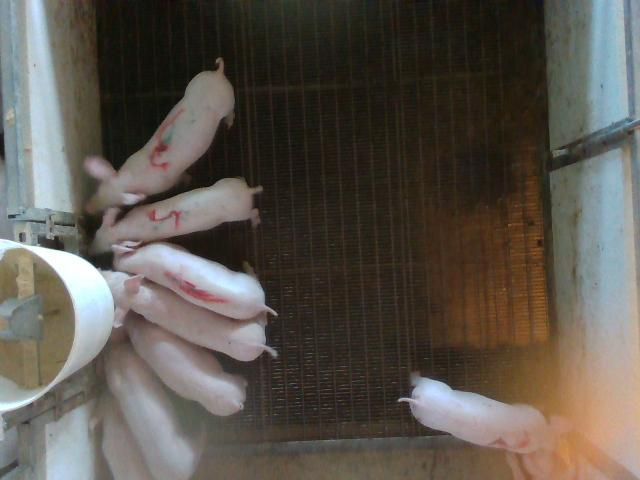pig-1: (114, 243, 276, 319)
pig-2: (400, 374, 570, 459)
pig-3: (85, 58, 234, 212)
pig-5: (91, 178, 262, 257)
